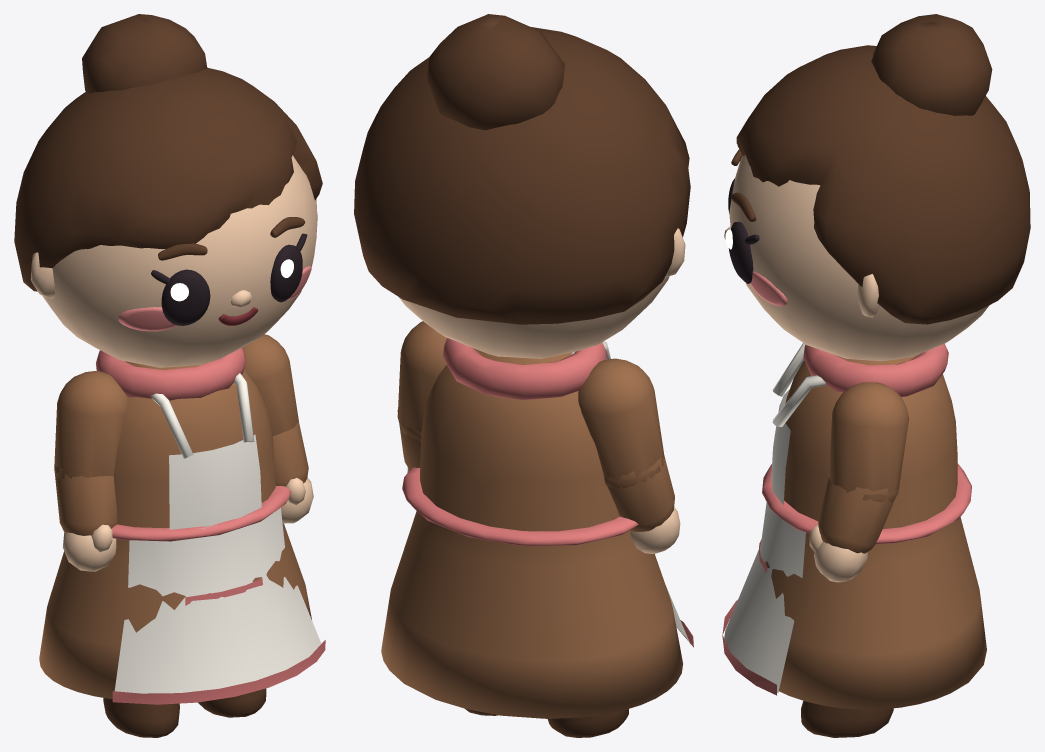
Rendered from npc_aunt.glb.
3 views of the same model, side by side, from view 1: azimuth 30°, elevation 25°; view 2: azimuth 150°, elevation 25°; view 3: azimuth 270°, elevation 25° (orthographic). The views are drawn at different scales.
Visible parts, largest first — view 1: head_body, spine_body, uarm_R, collar, head_eye_dot, uarm_L, farm_R, knee_R_body, hand_R_body, farm_L, head_cheek_blush, knee_L_body (+2 smaller); view 2: head_body, spine_body, uarm_R, collar, uarm_L, farm_R, knee_R_body, hand_R_body, farm_L; view 3: head_body, spine_body, uarm_L, collar, farm_L, knee_L_body, hand_L_body, head_eye_dot, head_cheek_blush.
Part boxes in pixels (x1,y1,x2,y2): head_body: (14,14,322,367); spine_body: (39,361,325,704); uarm_R: (54,371,127,478); collar: (96,348,246,400); head_eye_dot: (151,233,307,325); uarm_L: (242,334,298,436); farm_R: (54,465,117,535); knee_R_body: (103,698,179,737); hand_R_body: (63,524,116,571); farm_L: (273,422,308,486); head_cheek_blush: (118,266,311,331); knee_L_body: (198,688,266,717); head_body: (354,14,690,358); spine_body: (381,341,693,718); uarm_R: (578,358,664,489); collar: (443,338,606,399); uarm_L: (397,321,447,441); farm_R: (604,457,674,531); knee_R_body: (547,709,628,737); hand_R_body: (630,507,680,553); farm_L: (397,409,421,469); head_body: (724,14,1030,361); spine_body: (722,343,986,709); uarm_L: (829,382,909,502); collar: (803,344,948,396); farm_L: (818,477,899,553); knee_L_body: (801,701,893,737); hand_L_body: (809,524,867,582); head_eye_dot: (725,178,759,283); head_cheek_blush: (750,271,787,306).
Size of what is drawn, in the model's own units: 0.6642 by 1.48 by 0.6027.
